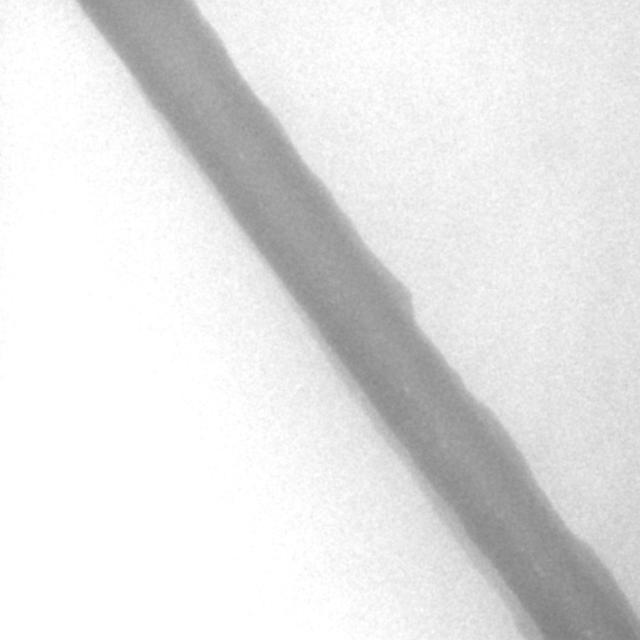air hole: (236, 147, 247, 163), (400, 381, 411, 396)
